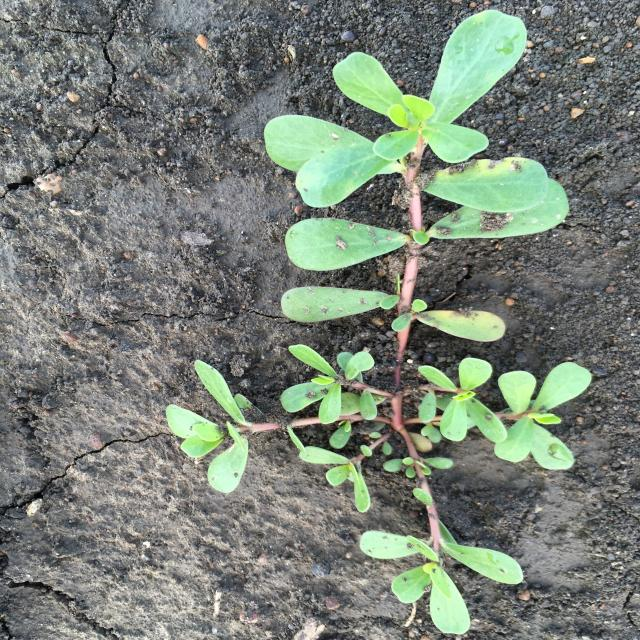Purslane: (166, 10, 592, 634)
